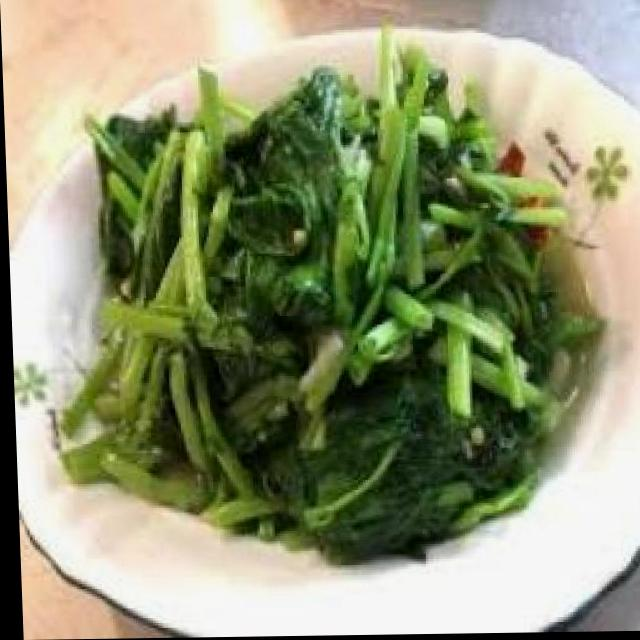water_spinach: (142, 127, 542, 484)
